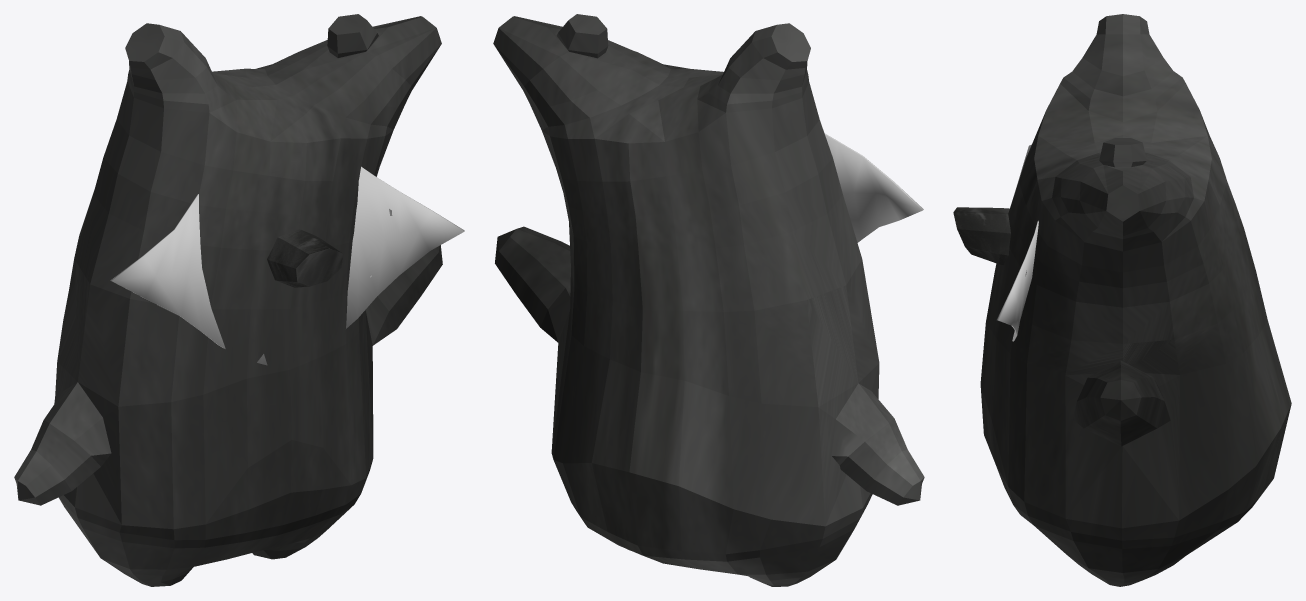
The model's file is frame_0054.obj.
3 renders of one model, left to right at view 1: azimuth 30°, elevation 25°; view 2: azimuth 150°, elevation 25°; view 3: azimuth 270°, elevation 25°, orthographic. The views are drawn at different scales.
Visible parts, largest first — view 1: korok, leaf, nose; view 2: korok, leaf; view 3: korok, nose, leaf.
Part boxes in pixels (left/top/right/bottom): korok: left=14, top=14, right=442, bottom=586; leaf: left=110, top=166, right=464, bottom=365; nose: left=267, top=229, right=342, bottom=287; korok: left=493, top=14, right=924, bottom=586; leaf: left=824, top=133, right=923, bottom=242; korok: left=980, top=14, right=1291, bottom=586; nose: left=953, top=207, right=1010, bottom=265; leaf: left=997, top=144, right=1038, bottom=341.
Bounding box in the file's own units: 1.69 × 2.14 × 1.27.
